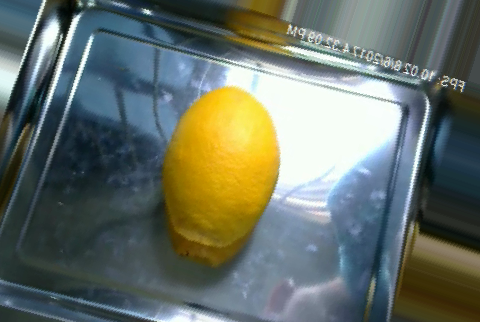Orange: (159, 84, 279, 245)
